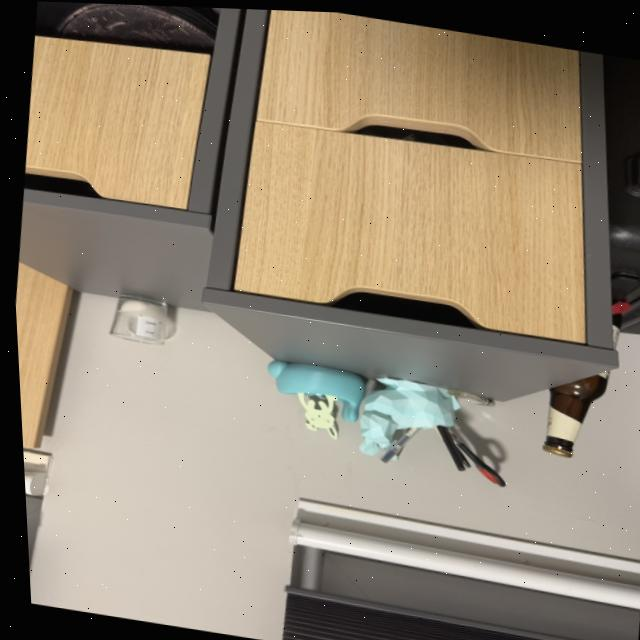beer: (525, 279, 633, 468)
